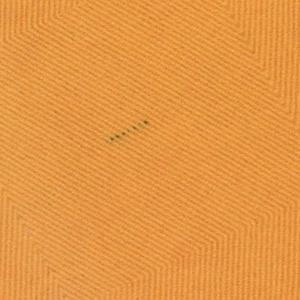stain: (105, 118, 156, 144)
